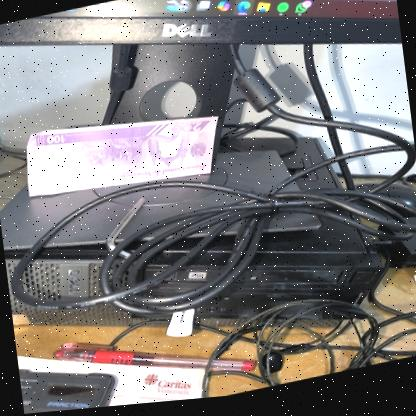vef_back: (21, 96, 225, 211)
